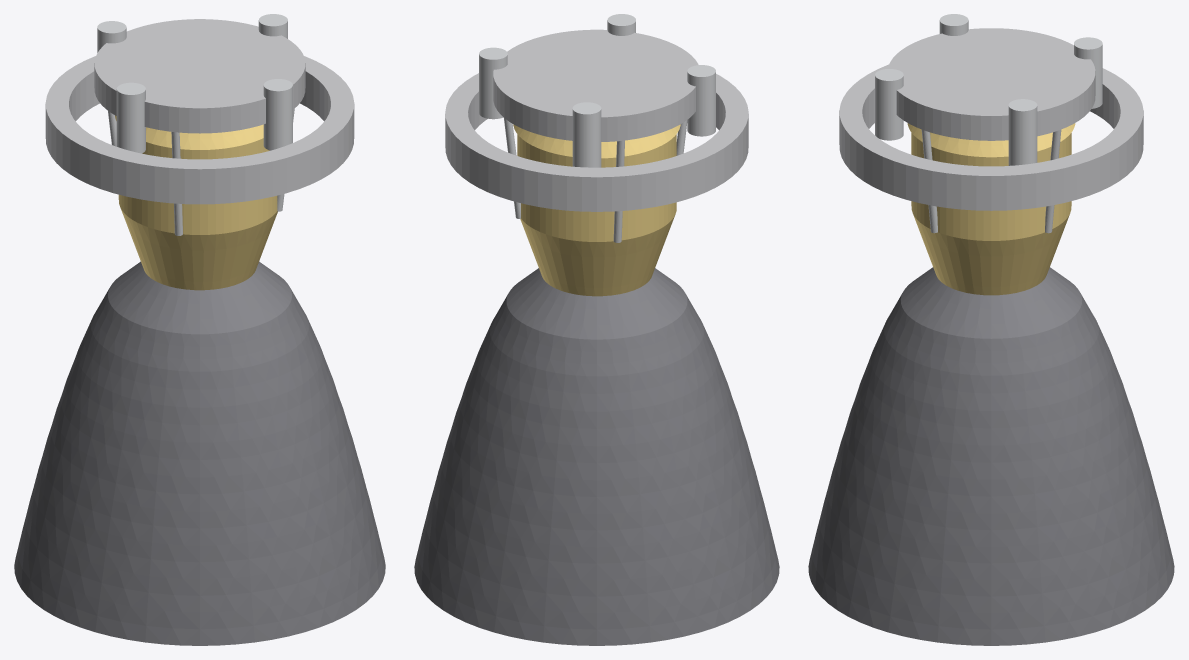
Rendered from prop19_descent_engine_m.glb.
3 renders of one model, left to right at view 1: azimuth 30°, elevation 25°; view 2: azimuth 150°, elevation 25°; view 3: azimuth 270°, elevation 25°, orthographic.
Parts seen in each view (by area): view 1: bell, gimbal_ring, mount, chamber, throttle_valves, injector_dome, thrust_struts; view 2: bell, mount, gimbal_ring, chamber, throttle_valves, injector_dome, thrust_struts; view 3: bell, mount, gimbal_ring, chamber, throttle_valves, injector_dome, thrust_struts.
Boxes of the visible parts, x1,y1,x2,y2 form: bell: (14, 261, 385, 645); gimbal_ring: (45, 56, 354, 204); mount: (94, 19, 305, 133); chamber: (118, 138, 277, 290); throttle_valves: (97, 14, 292, 153); injector_dome: (115, 115, 263, 149); thrust_struts: (108, 109, 294, 235); bell: (414, 268, 779, 645); mount: (493, 29, 698, 141); gimbal_ring: (445, 73, 748, 211); chamber: (517, 134, 676, 296); throttle_valves: (479, 14, 715, 167); injector_dome: (513, 124, 680, 158); thrust_struts: (504, 118, 687, 242); bell: (808, 267, 1174, 645); mount: (888, 28, 1095, 140); gimbal_ring: (839, 64, 1143, 210); chamber: (911, 133, 1071, 295); throttle_valves: (875, 14, 1102, 165); injector_dome: (907, 123, 1075, 157); thrust_struts: (921, 129, 1061, 233).
Size of the model in its own units: 1.54 by 2.35 by 1.54.
